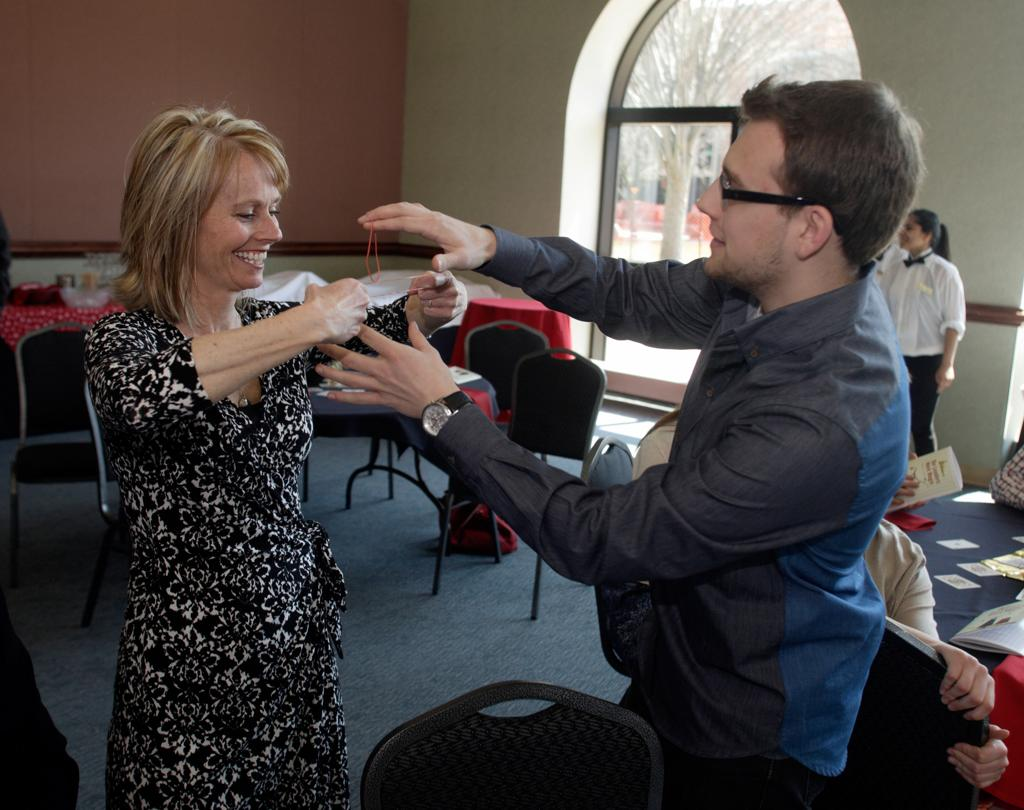face: (695, 127, 795, 279), (199, 155, 282, 289), (897, 217, 924, 247)
